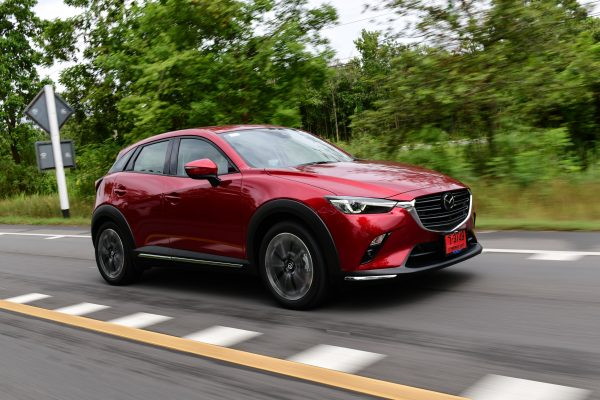pickup: (90, 121, 482, 312)
